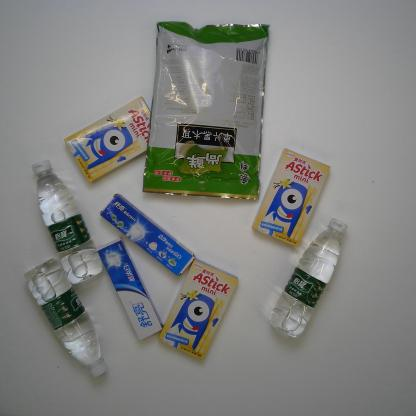Dessert: (154, 258, 240, 363), (250, 145, 332, 248), (62, 94, 152, 187)
Dried Food: (140, 15, 271, 204)
Drink: (25, 256, 107, 386), (266, 214, 350, 340), (31, 157, 104, 287)
Personal Hygiene: (98, 192, 197, 278), (95, 236, 164, 343)
